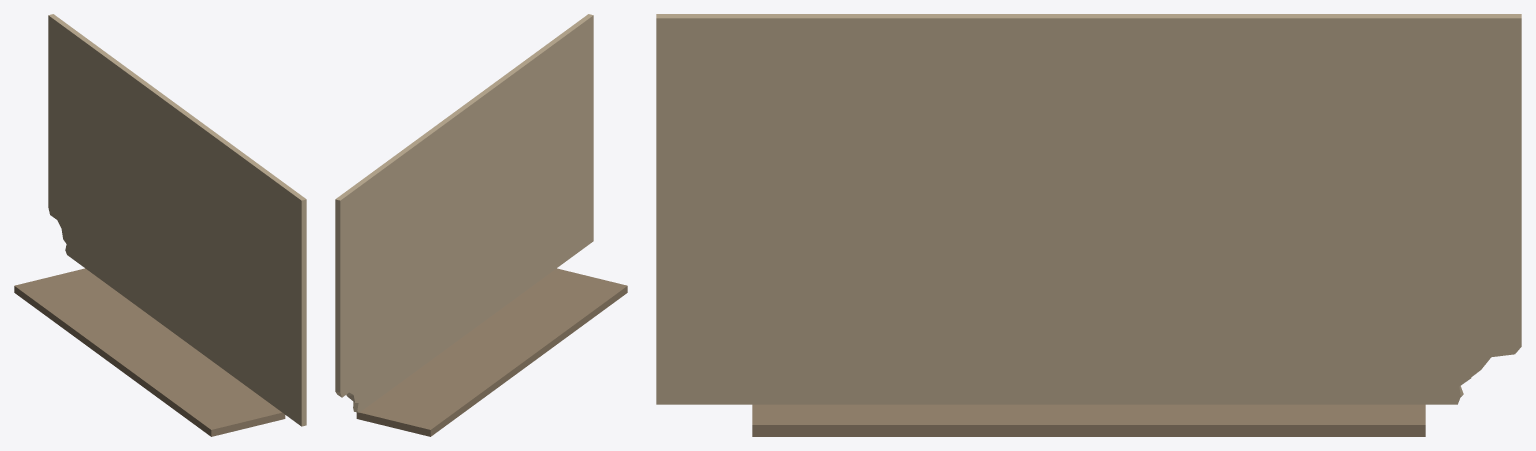
Rendered from TableAndBoard.fbx.
3 renders of one model, left to right at view 1: azimuth 30°, elevation 25°; view 2: azimuth 150°, elevation 25°; view 3: azimuth 270°, elevation 25°, orthographic. The views are drawn at different scales.
Parts seen in each view (by area): view 1: pCube56, pCube55; view 2: pCube56, pCube55; view 3: pCube56, pCube55.
Boxes of the visible parts, x1=… form: pCube56: x1=48, y1=14, x2=306, y2=426; pCube55: x1=14, y1=268, x2=285, y2=436; pCube56: x1=335, y1=14, x2=593, y2=412; pCube55: x1=356, y1=268, x2=627, y2=436; pCube56: x1=656, y1=14, x2=1521, y2=404; pCube55: x1=752, y1=404, x2=1425, y2=436.
Size of the model in its own units: 0.5866 by 1.83 by 3.48.
